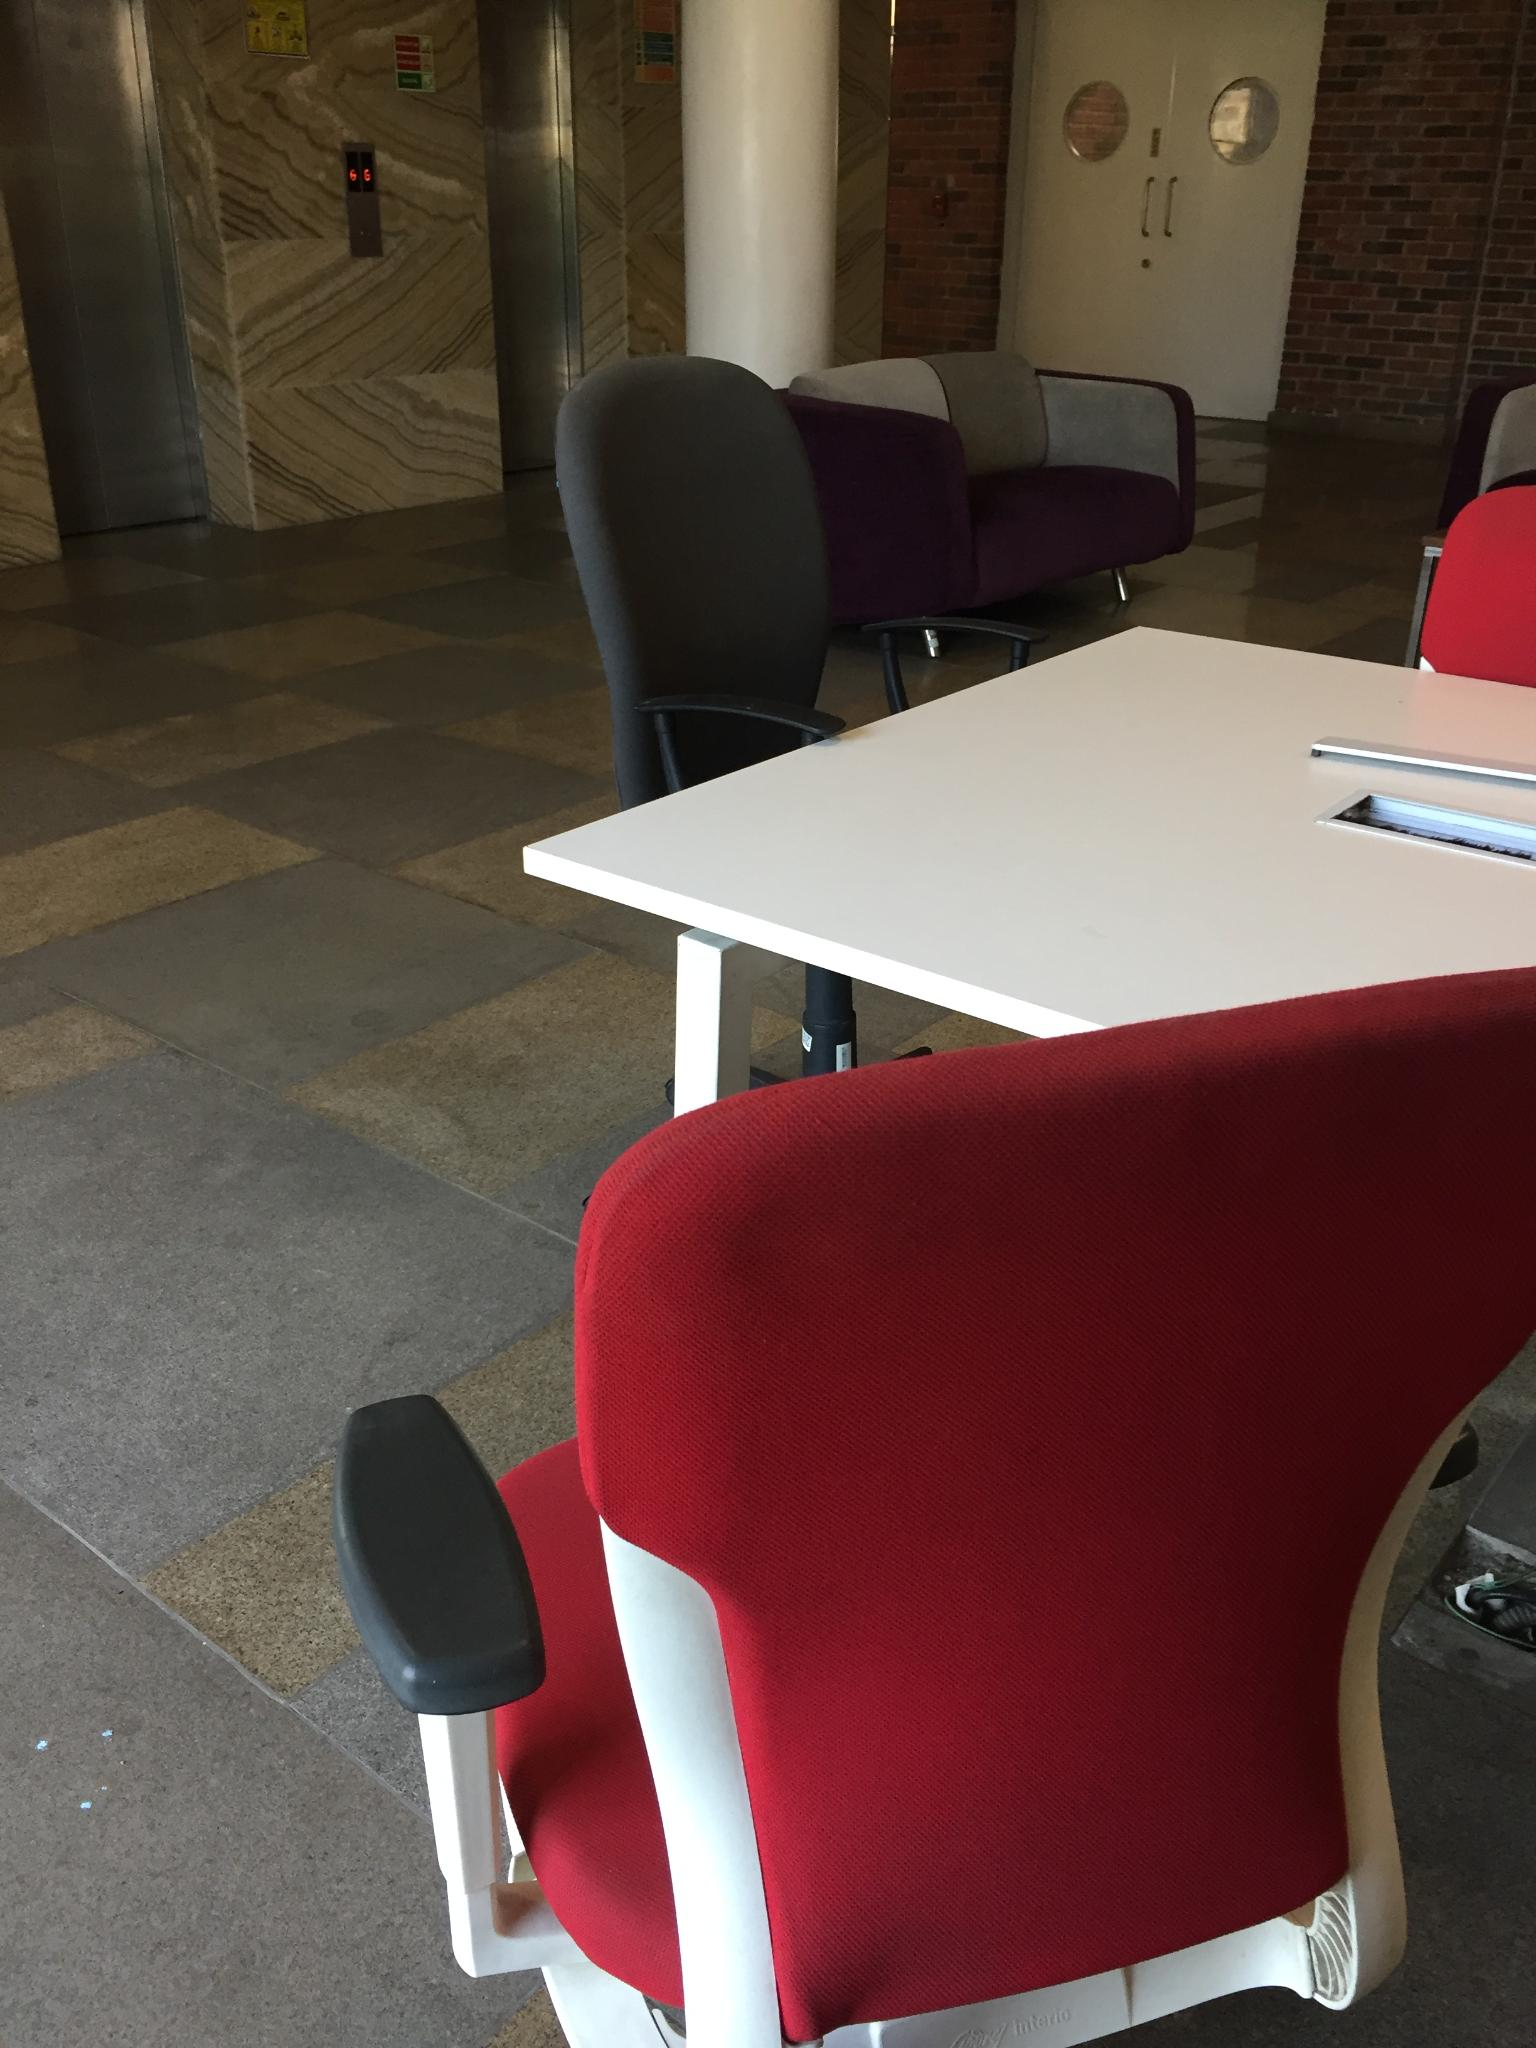chair: (331, 963, 1534, 2045), (473, 373, 1010, 1082), (1420, 510, 1536, 711)
